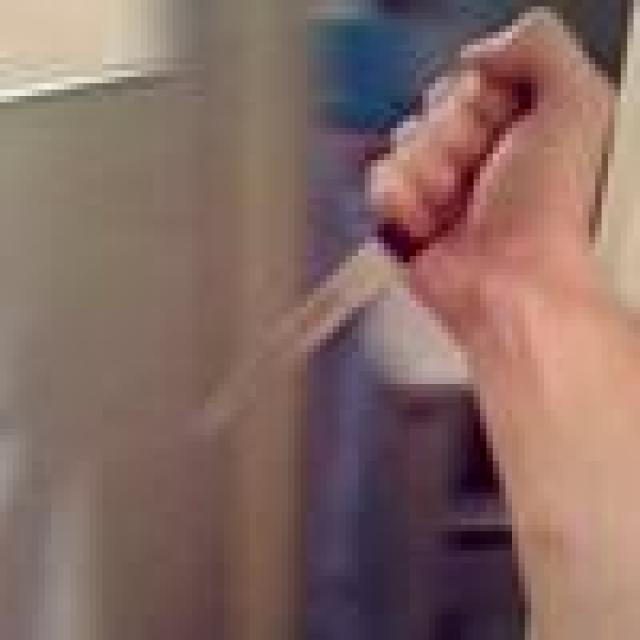knife: (209, 240, 402, 414)
